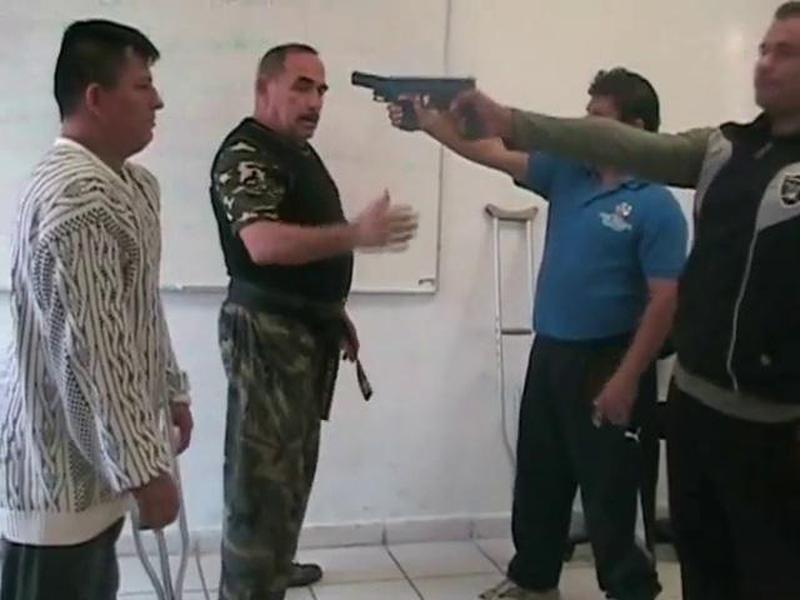Pistola: (384, 74, 495, 153)
